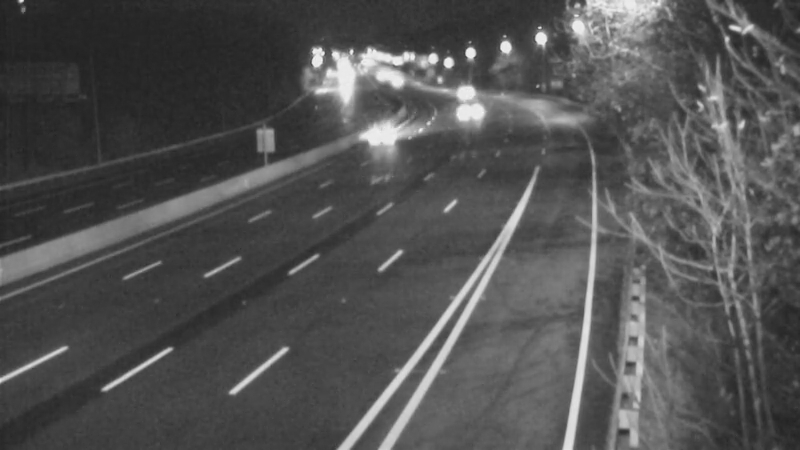vehicle: (354, 52, 404, 102), (367, 58, 417, 108), (439, 64, 489, 114), (445, 85, 495, 135), (360, 110, 410, 160), (318, 57, 368, 107)
